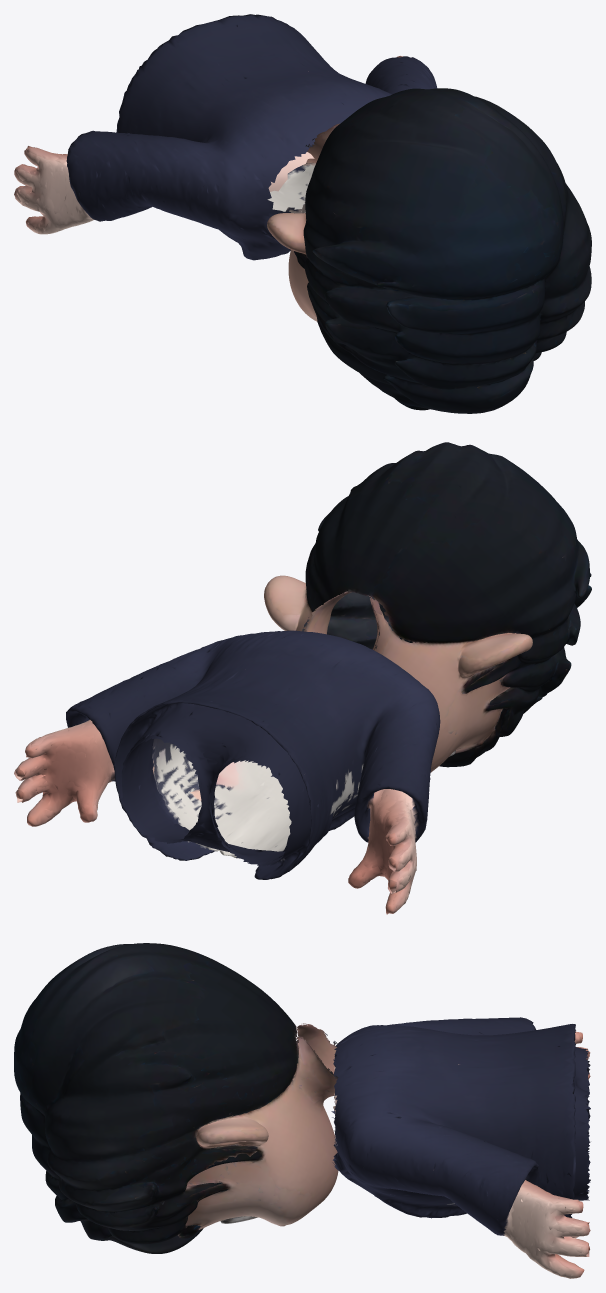
File: body-swap.glb
3 renders of one model, top to bottom at view 1: azimuth 30°, elevation 25°; view 2: azimuth 150°, elevation 25°; view 3: azimuth 270°, elevation 25°, orthographic. The views are drawn at different scales.
Visible parts, largest first — view 1: navy_body; view 2: navy_body; view 3: navy_body.
Part boxes in pixels (x1,y1,x2,y2): navy_body: [14, 14, 591, 413]; navy_body: [14, 442, 591, 914]; navy_body: [14, 943, 590, 1278].
Bounding box in the file's own units: 0.7312 × 0.5579 × 0.9961.
Materials: 2 (2 with a texture image).
